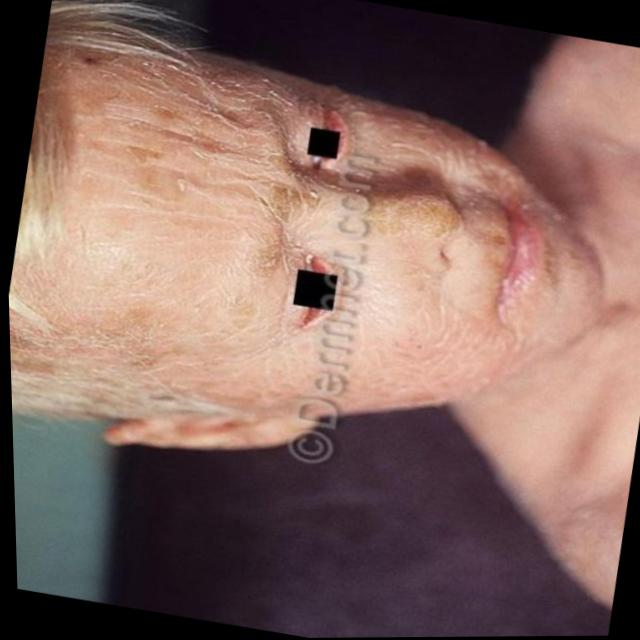Eczema: (86, 11, 603, 413)
